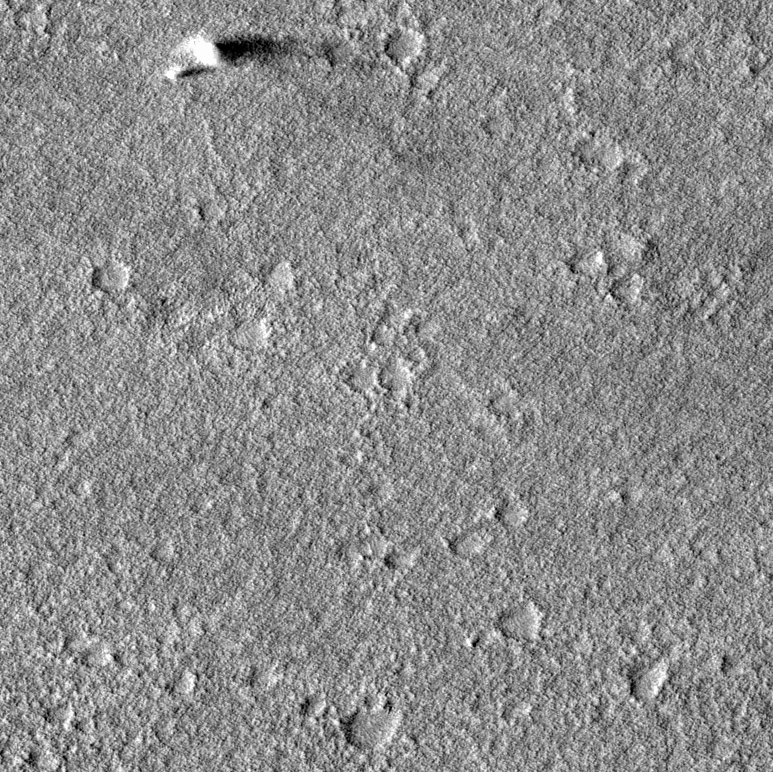dust_devil: (185, 30, 336, 68), (162, 63, 218, 82)
